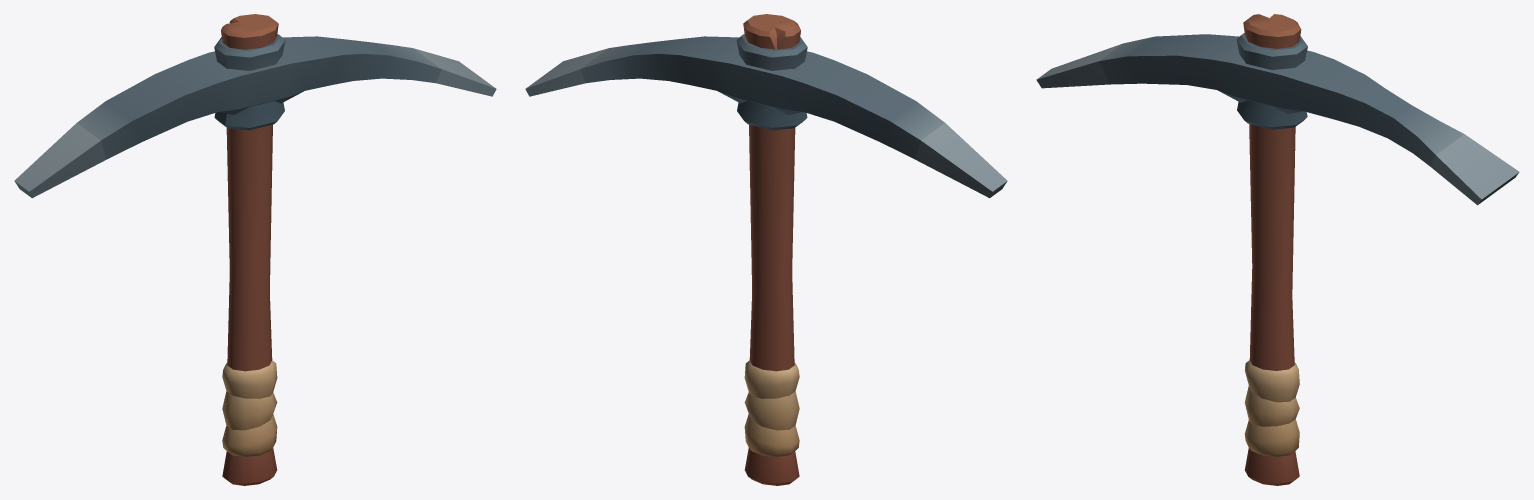
The model's file is KT_pickaxe.glb.
The picture shows the model from 3 angles, left to right: view 1: azimuth 30°, elevation 25°; view 2: azimuth 150°, elevation 25°; view 3: azimuth 330°, elevation 25°; orthographic projection.
Visible parts, largest first — view 1: pickaxe; view 2: pickaxe; view 3: pickaxe.
Part boxes in pixels (x1=…): pickaxe: x1=14, y1=14, x2=496, y2=485; pickaxe: x1=525, y1=14, x2=1007, y2=485; pickaxe: x1=1036, y1=14, x2=1519, y2=485.
Size of the model in its own units: 1.45 by 1.39 by 0.2085.
